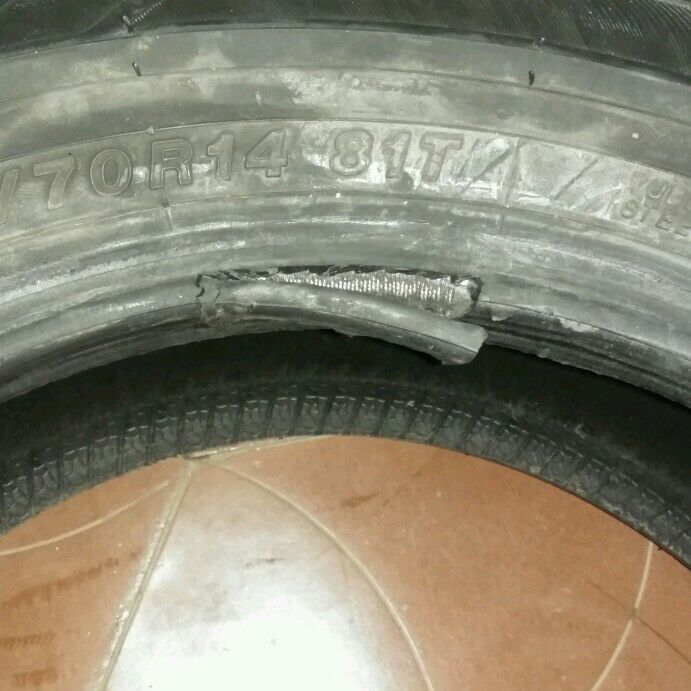bead_damage: (193, 263, 486, 366)
